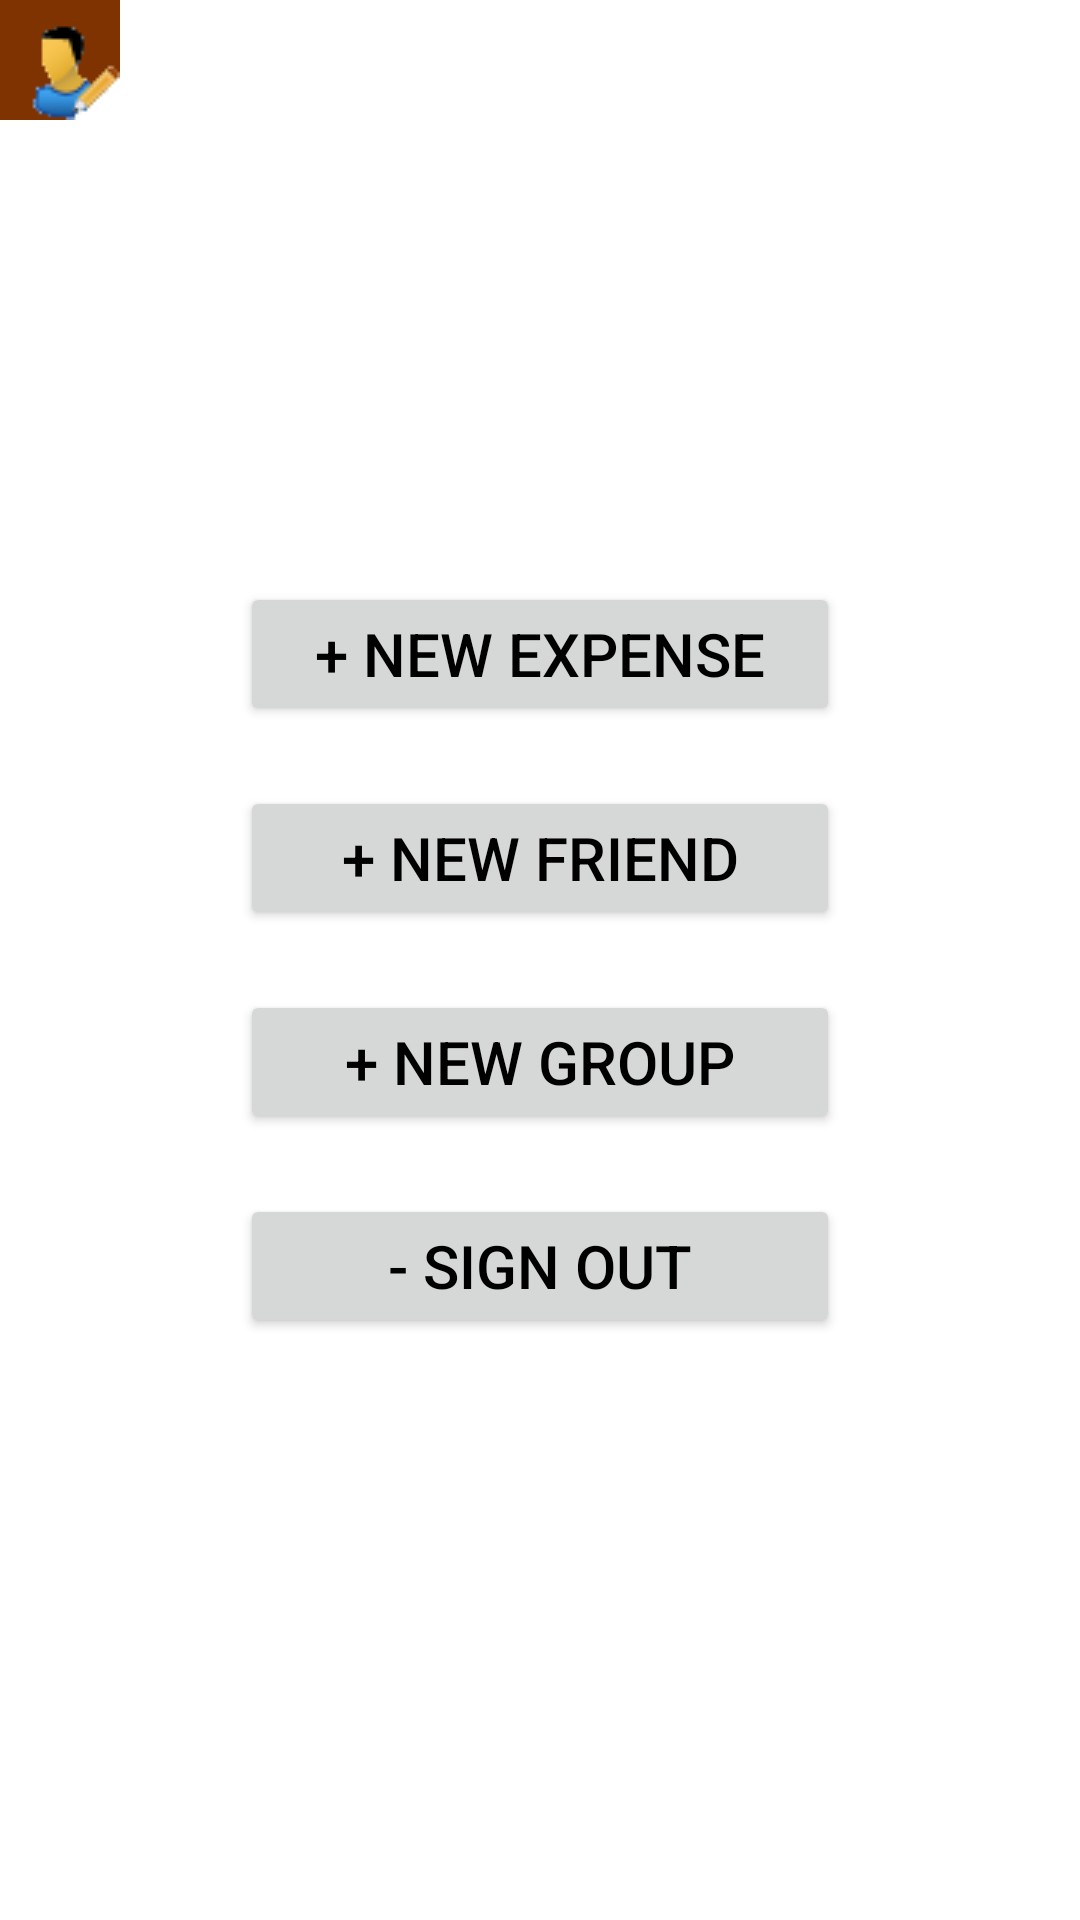

Icon click points for this 1080 x 1920 phone screenshot, format [x,y]:
Edit Profile: [60,60]
